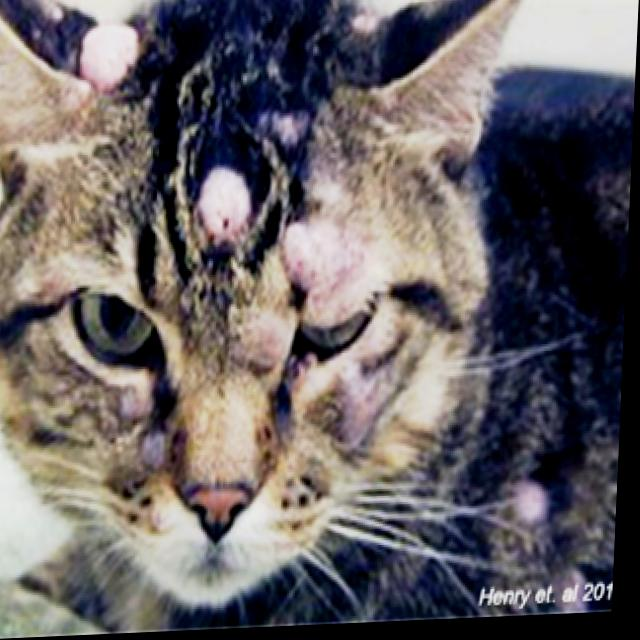lump_and_bump: (285, 221, 365, 328), (199, 168, 250, 242), (80, 26, 135, 89), (512, 480, 548, 520), (143, 431, 164, 466), (354, 14, 379, 33)
